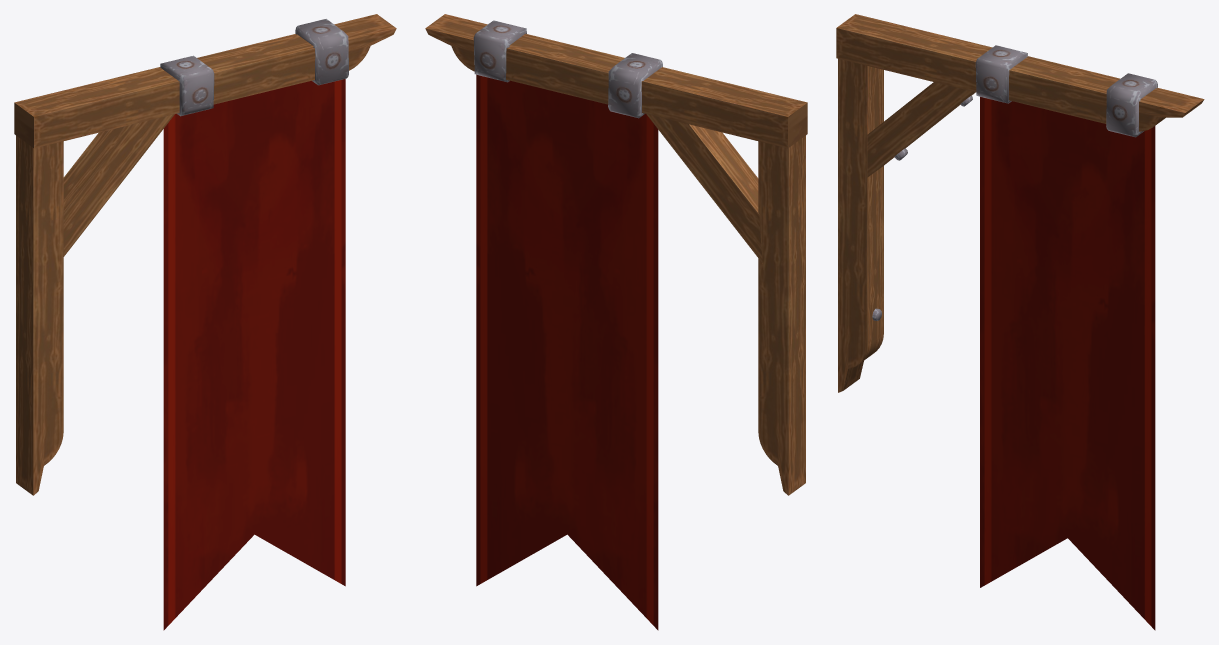
File: Banner_1.gltf
3 views of the same model, side by side, from view 1: azimuth 30°, elevation 25°; view 2: azimuth 150°, elevation 25°; view 3: azimuth 330°, elevation 25° (orthographic). The views are drawn at different scales.
Parts seen in each view (by area): view 1: Banner_1; view 2: Banner_1; view 3: Banner_1.
Part boxes in pixels (x1,y1,x2,y2): Banner_1: (14, 14, 396, 630); Banner_1: (425, 14, 807, 630); Banner_1: (836, 14, 1204, 630).
Bounding box in the file's own units: 1.61 × 2.39 × 0.1906.
Materials: 3 (3 with a texture image).
